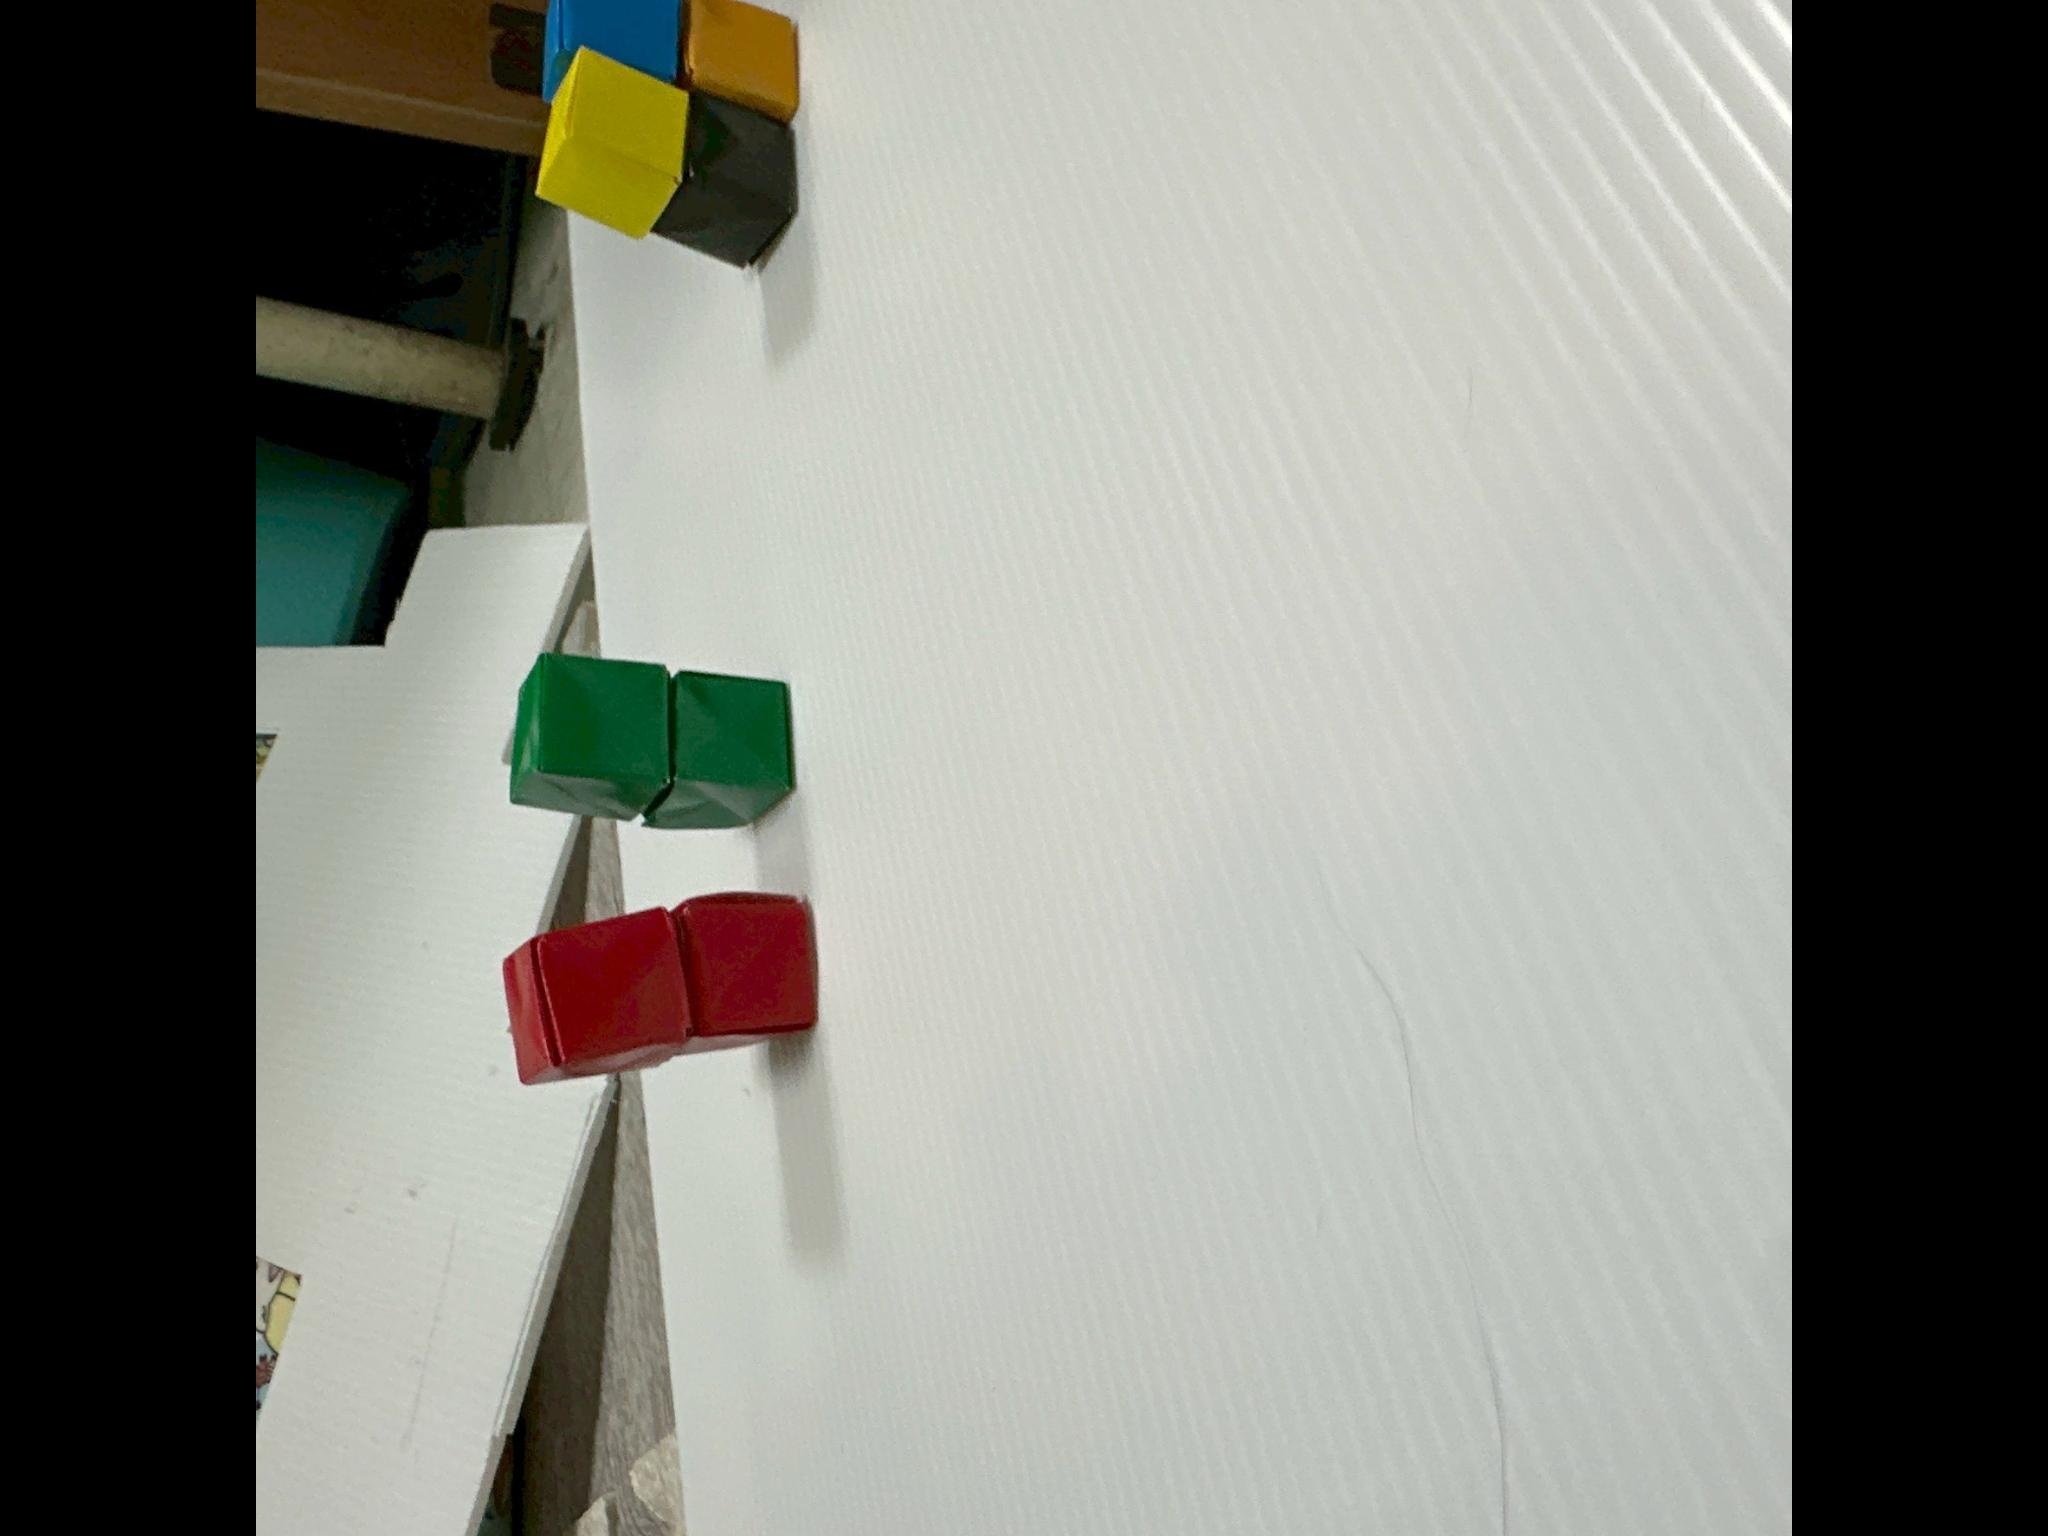cube: (503, 907, 692, 1083), (537, 45, 689, 236), (510, 653, 671, 818), (651, 90, 795, 266), (643, 670, 792, 829), (669, 891, 816, 1052), (682, 0, 798, 119), (543, 0, 682, 98)
